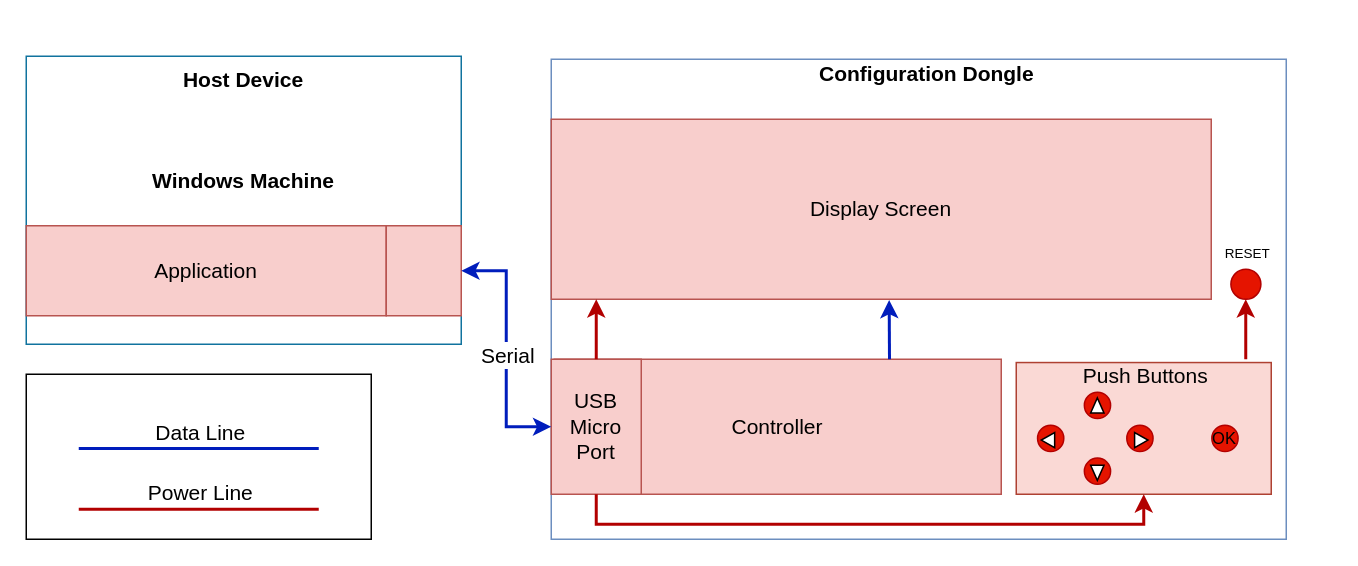
Some shapes in this 1358 by 566 pixel diagram are drawn without their labels. The shapes that lost their labels are listed below. From the top down, each one's centre as x and y in pixels, then its label:
(x=423, y=270): USB Port
(x=198, y=456): LEGEND
